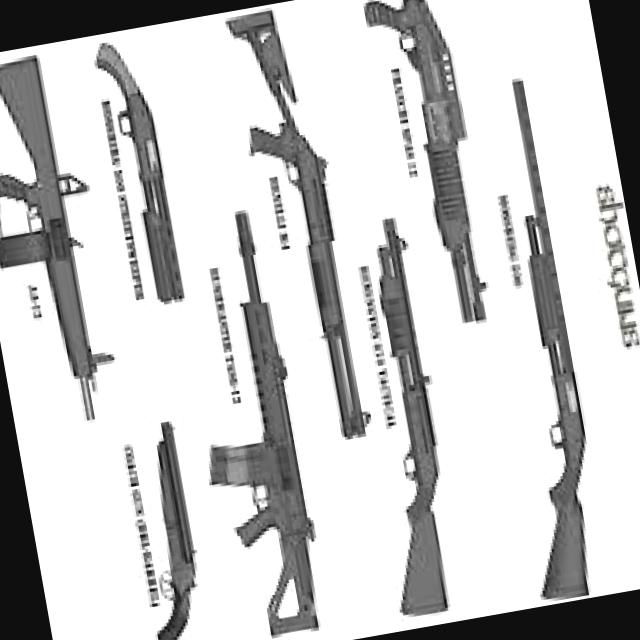long weapon: (456, 49, 630, 604), (212, 0, 386, 473), (174, 191, 330, 639), (332, 197, 484, 628), (355, 0, 497, 350), (0, 50, 121, 432), (111, 398, 230, 639), (90, 42, 192, 320)
